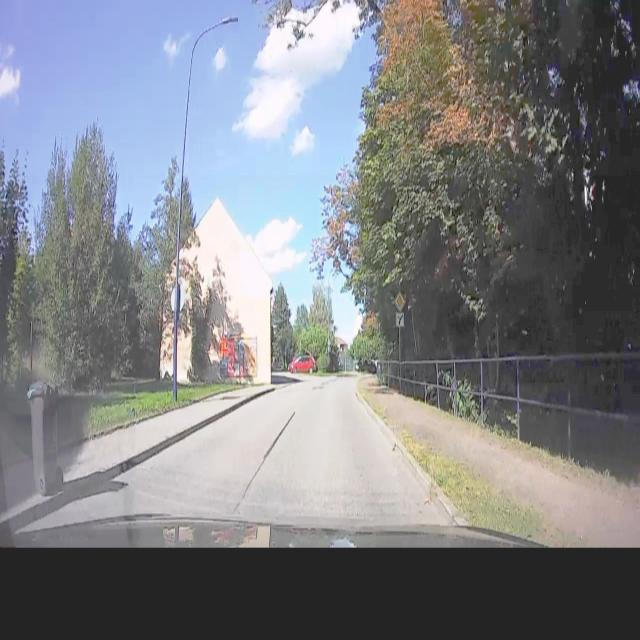Priority road: (394, 289, 407, 312)
